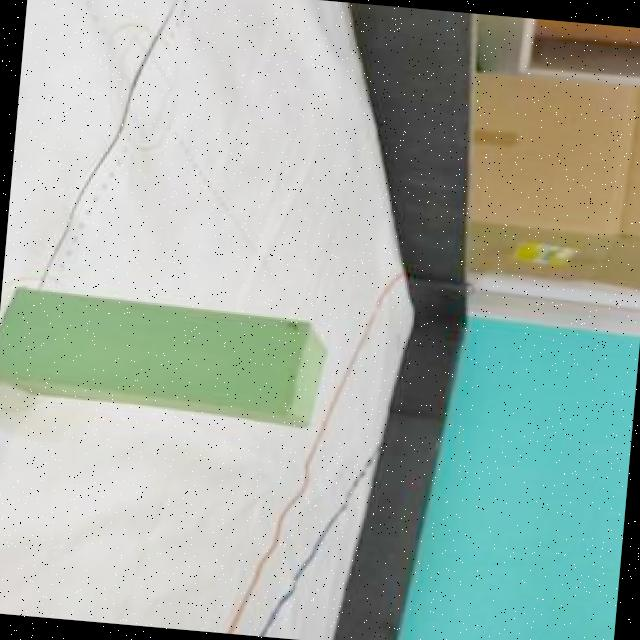greenbox: (0, 279, 335, 428)
